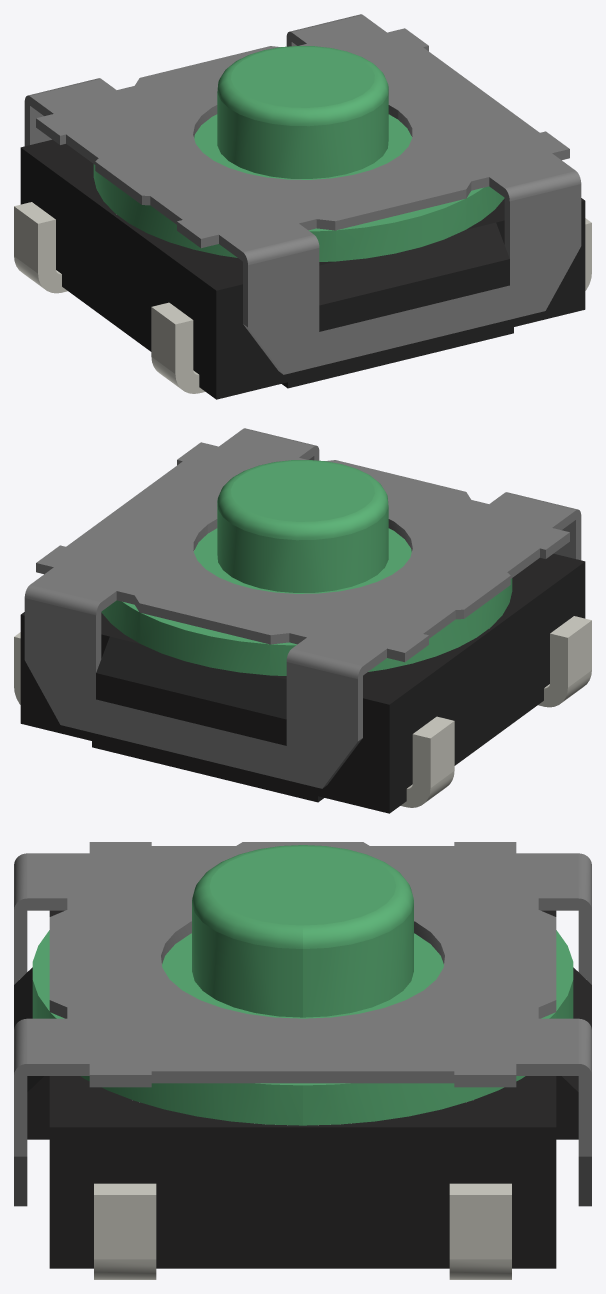
Rendered from kc-sw_spst_b3sl-1002p.glb.
3 views of the same model, one above another, from view 1: azimuth 30°, elevation 25°; view 2: azimuth 150°, elevation 25°; view 3: azimuth 270°, elevation 25° (orthographic). The views are drawn at different scales.
Visible parts, largest first — view 1: 0.25_0.25_0.25_0, 0_0_0_0, 0.08333333333333333_0.4166666666666667_0.16666666666666666_0, 0.6666666666666666_0.6666666666666666_0.5833333333333334_0.8; view 2: 0.25_0.25_0.25_0, 0_0_0_0, 0.08333333333333333_0.4166666666666667_0.16666666666666666_0, 0.6666666666666666_0.6666666666666666_0.5833333333333334_0.8; view 3: 0.25_0.25_0.25_0, 0_0_0_0, 0.08333333333333333_0.4166666666666667_0.16666666666666666_0, 0.6666666666666666_0.6666666666666666_0.5833333333333334_0.8.
Part boxes in pixels (left/top/right/bottom): 0.25_0.25_0.25_0: left=24, top=14, right=581, bottom=374; 0_0_0_0: left=20, top=139, right=585, bottom=399; 0.08333333333333333_0.4166666666666667_0.16666666666666666_0: left=93, top=46, right=504, bottom=261; 0.6666666666666666_0.6666666666666666_0.5833333333333334_0.8: left=14, top=202, right=591, bottom=393; 0.25_0.25_0.25_0: left=24, top=428, right=581, bottom=788; 0_0_0_0: left=20, top=553, right=585, bottom=813; 0.08333333333333333_0.4166666666666667_0.16666666666666666_0: left=101, top=460, right=512, bottom=675; 0.6666666666666666_0.6666666666666666_0.5833333333333334_0.8: left=14, top=616, right=591, bottom=807; 0.25_0.25_0.25_0: left=14, top=842, right=591, bottom=1206; 0_0_0_0: left=14, top=910, right=591, bottom=1268; 0.08333333333333333_0.4166666666666667_0.16666666666666666_0: left=32, top=845, right=573, bottom=1125; 0.6666666666666666_0.6666666666666666_0.5833333333333334_0.8: left=94, top=1183, right=511, bottom=1279.
Bounding box in the file's own units: 0.7 × 0.34 × 0.65.
